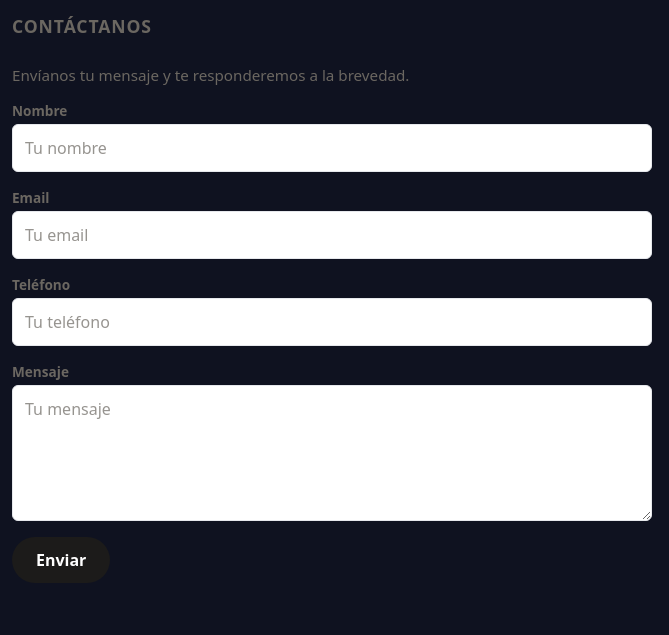
Test: ContactSection › envía un único POST con los 4 campos y muestra el éxito al responder 201
Type "Juan Pérez" into the field labelled "Nombre". click: (332, 148)
box: [12,124,652,172]
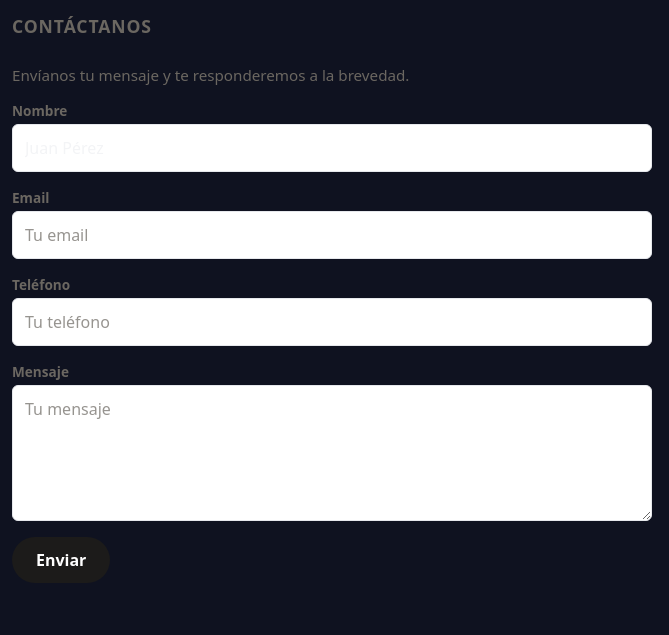
Type "juan@mail.com" into the field labelled "Email". click: (332, 235)
box: [12,211,652,259]
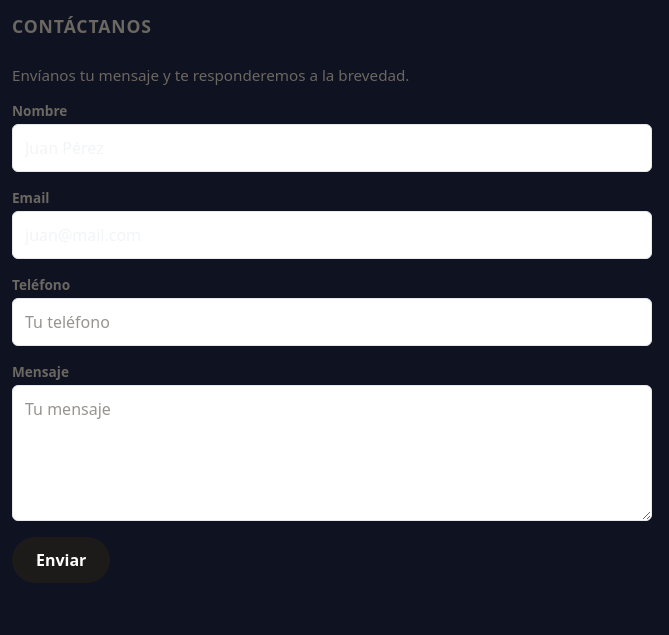
Type "+56912345678" into the field labelled "Teléfono". click: (332, 322)
box: [12,298,652,346]
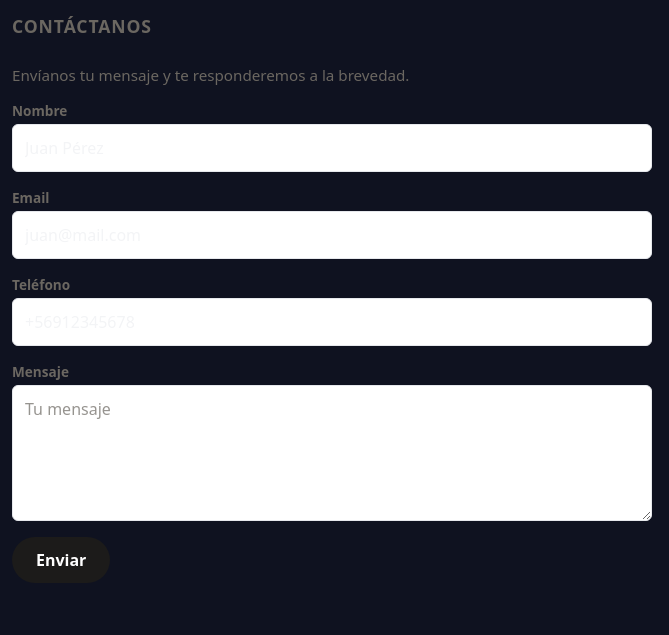
Type "Hola, quiero auspiciar" into the text box labelled "Mensaje". click: (332, 453)
box: [12,385,652,521]
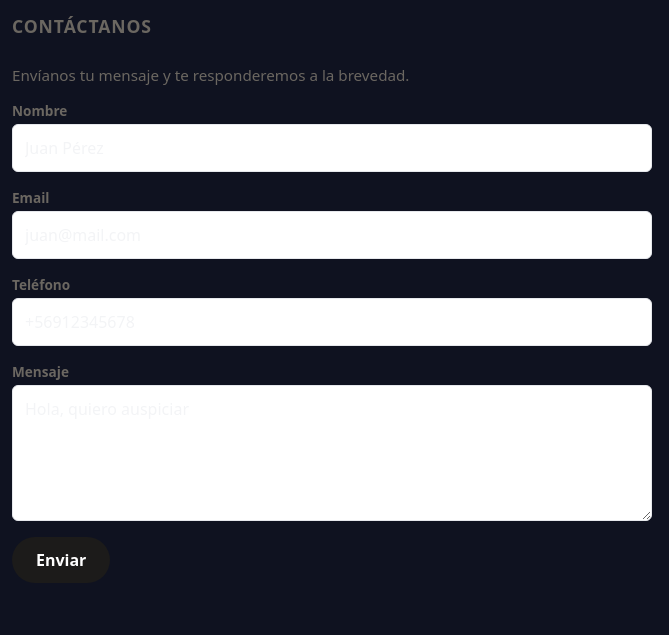
Click the button "Enviar". click: click(61, 560)
box: [12,537,110,583]
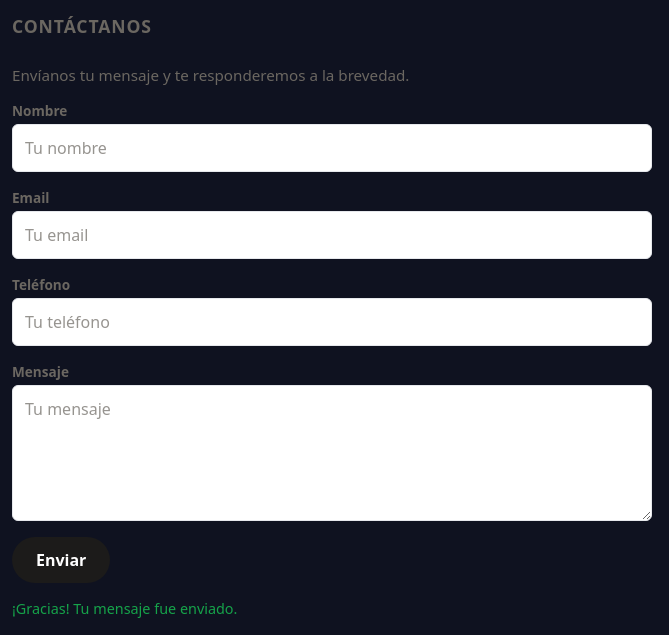
Result: the text "¡Gracias! Tu mensaje fue enviado." is shown at [12,599,237,618]
Result: the field labelled "Nombre" is empty at [12,124,652,172]
Result: the field labelled "Email" is empty at [12,211,652,259]
